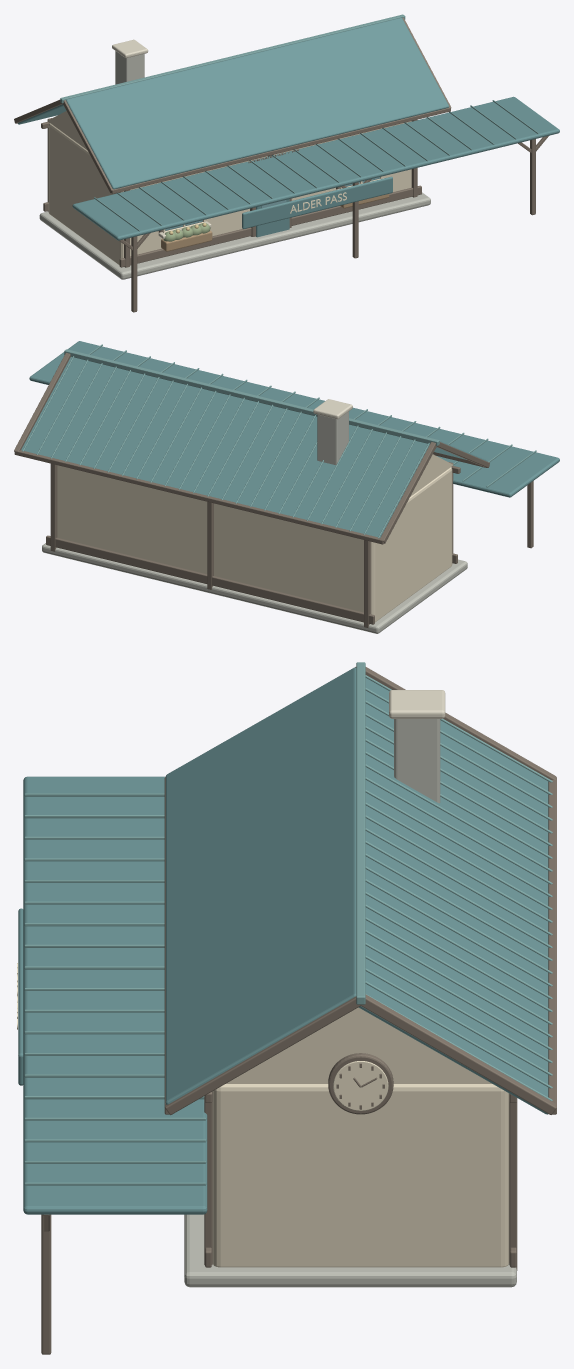
Rendered from Station.fbx.
3 renders of one model, top to bottom at view 1: azimuth 30°, elevation 25°; view 2: azimuth 150°, elevation 25°; view 3: azimuth 270°, elevation 25°, orthographic. The views are drawn at different scales.
Visible parts, largest first — view 1: Station; view 2: Station; view 3: Station.
Boxes of the visible parts, box(x1,y1,x2,y2) form: Station: box(14, 14, 559, 312); Station: box(14, 341, 559, 633); Station: box(17, 662, 556, 1354).
Bounding box in the file's own units: 2000 × 1056 × 757.
